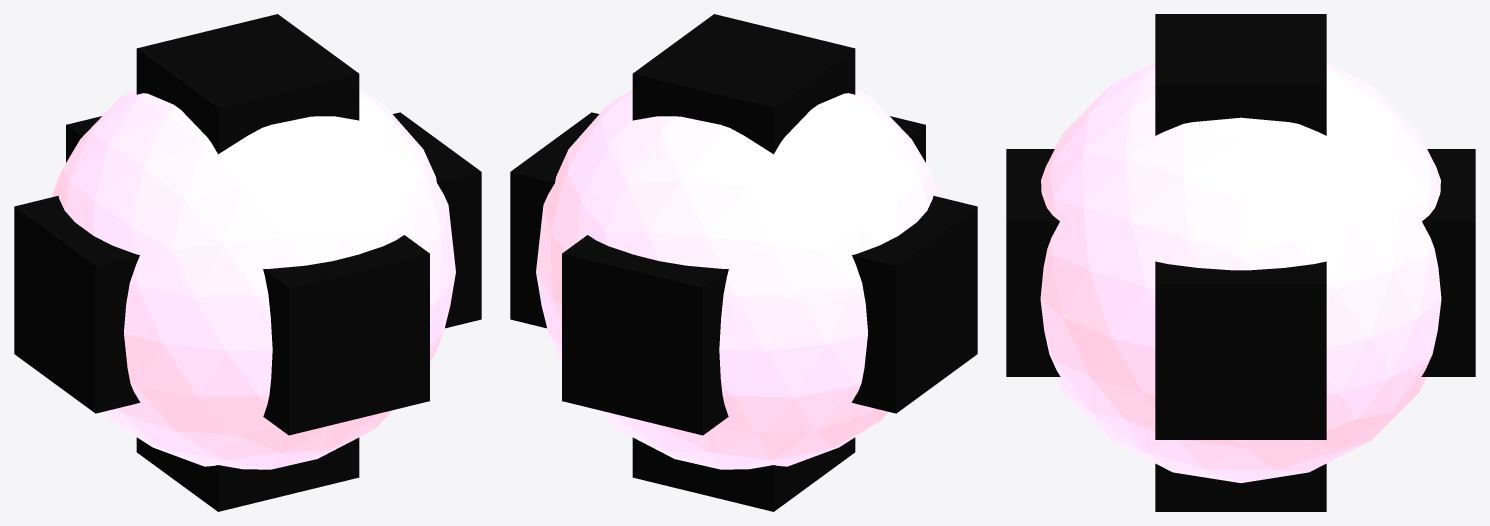
Rendered from grenade.fbx.
The picture shows the model from 3 angles, left to right: view 1: azimuth 30°, elevation 25°; view 2: azimuth 150°, elevation 25°; view 3: azimuth 270°, elevation 25°; orthographic projection. The views are drawn at different scales.
Visible parts, largest first — view 1: Icosphere; view 2: Icosphere; view 3: Icosphere.
Part boxes in pixels (x1=…): Icosphere: x1=14, y1=14, x2=481, y2=511; Icosphere: x1=510, y1=14, x2=977, y2=511; Icosphere: x1=1006, y1=14, x2=1475, y2=511.
Bounding box in the file's own units: 53.28 × 53.28 × 53.28.
